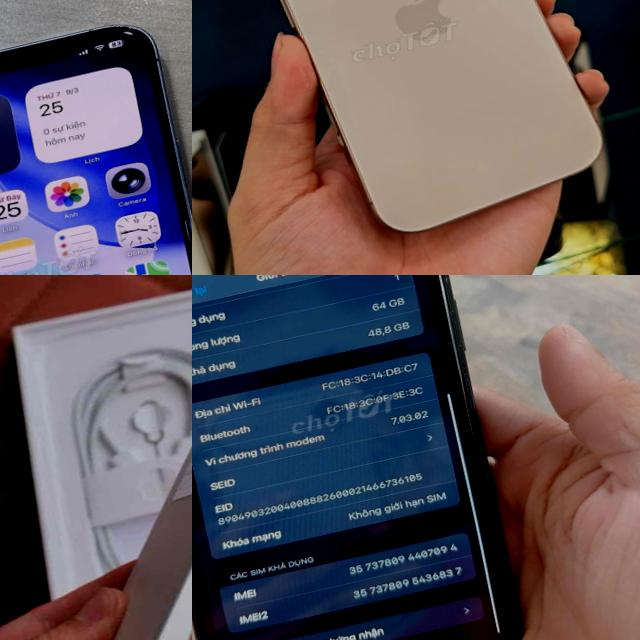gen_12_13: (0, 3, 192, 275)
gen_16: (279, 0, 601, 231), (0, 275, 192, 640)
gen_x_xs: (192, 275, 555, 640)
scratch: (446, 354, 514, 520), (413, 275, 478, 369)
